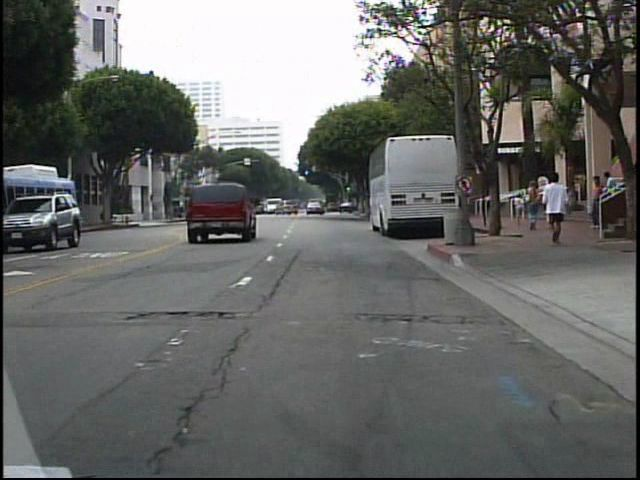person: (544, 173, 574, 249), (601, 168, 619, 230), (586, 173, 604, 233), (525, 179, 542, 235), (512, 191, 528, 228)
